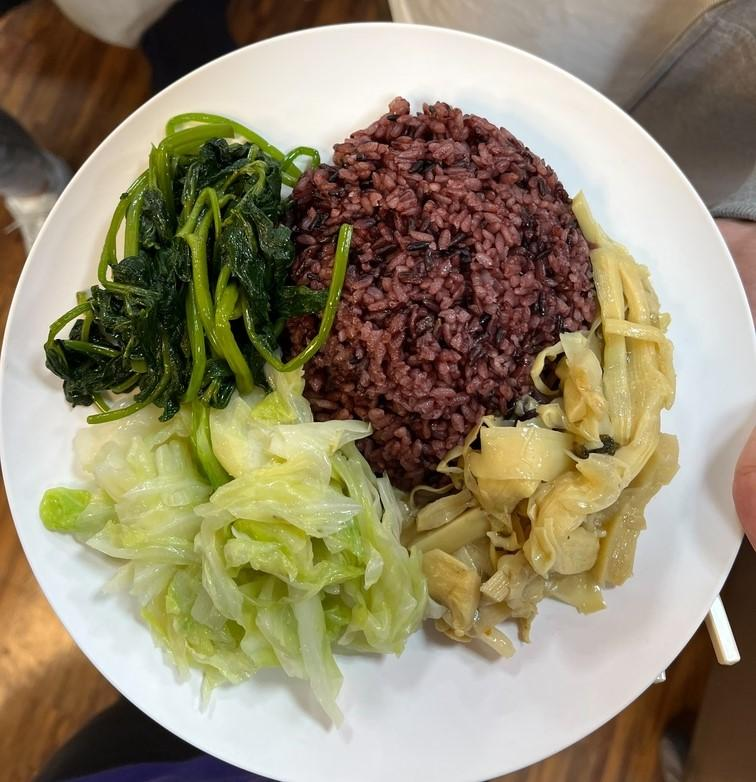big fried chicken leg: (9, 27, 756, 782)
braised fish: (290, 87, 598, 487)
braised fish fillet: (49, 382, 426, 724), (407, 247, 685, 657), (43, 119, 302, 404)
